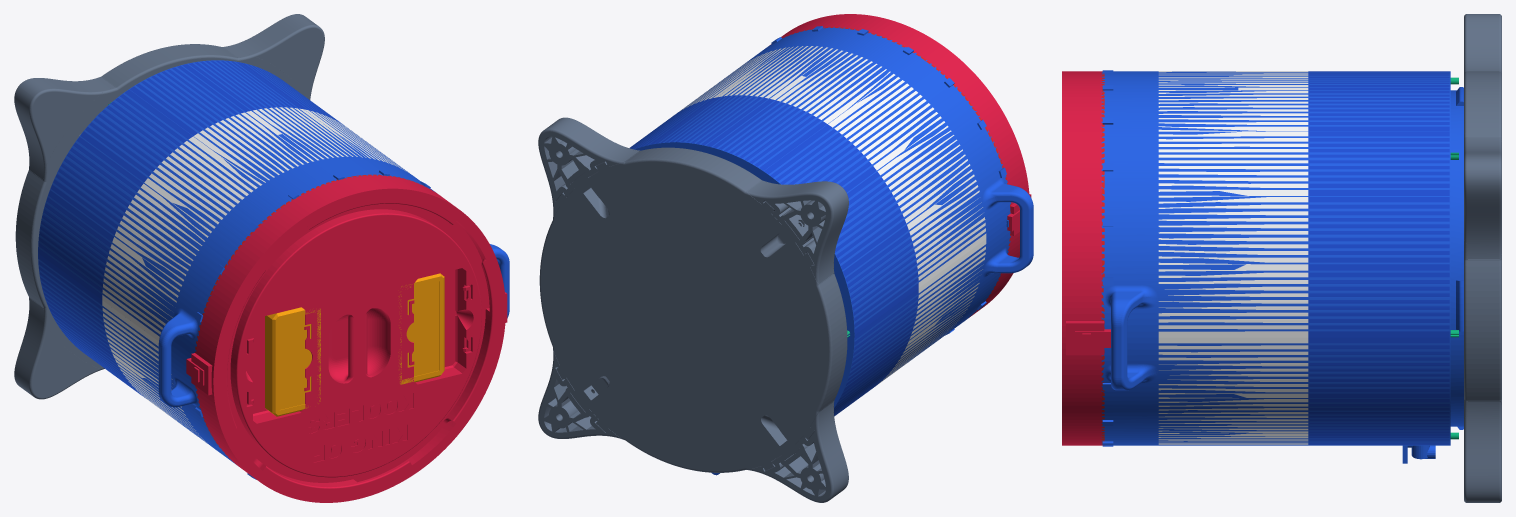
Rendered from KingOfKoolers_V12_24in_Tall_24od.obj.
3 renders of one model, left to right at view 1: azimuth 30°, elevation 25°; view 2: azimuth 150°, elevation 25°; view 3: azimuth 270°, elevation 25°, orthographic. The views are drawn at different scales.
Parts seen in each view (by area): view 1: v12_crown_lid_V12_Embossed_Crown_Lid_+_Deadbolt_Sliders, v12_one_piece_24in_V12_24in_Tall_24in_OD_One-Piece_Body, v12_wagon_base_Concentric_Dovetail_Wagon_Base_+_4x_Wheel_Feet, v12_sec2_lower_24in_Sec_2_-_Lower_Body_&_Spigot_(24in_Version), v12_sec3_mid_24in_Sec_3_-_Mid_Body_Extension_(24in_Version), v12_solar_batteries_Dual_10W_USB_Solar_Battery_Enclosures, v12_sec4_handles_Sec_4_-_Molded_Side_Loop_Handle_Ring; view 2: v12_wagon_base_Concentric_Dovetail_Wagon_Base_+_4x_Wheel_Feet, v12_one_piece_24in_V12_24in_Tall_24in_OD_One-Piece_Body, v12_sec2_lower_24in_Sec_2_-_Lower_Body_&_Spigot_(24in_Version), v12_sec3_mid_24in_Sec_3_-_Mid_Body_Extension_(24in_Version), v12_crown_lid_V12_Embossed_Crown_Lid_+_Deadbolt_Sliders, v12_sec4_handles_Sec_4_-_Molded_Side_Loop_Handle_Ring; view 3: v12_one_piece_24in_V12_24in_Tall_24in_OD_One-Piece_Body, v12_sec2_lower_24in_Sec_2_-_Lower_Body_&_Spigot_(24in_Version), v12_sec3_mid_24in_Sec_3_-_Mid_Body_Extension_(24in_Version), v12_wagon_base_Concentric_Dovetail_Wagon_Base_+_4x_Wheel_Feet, v12_crown_lid_V12_Embossed_Crown_Lid_+_Deadbolt_Sliders, v12_sec4_handles_Sec_4_-_Molded_Side_Loop_Handle_Ring, v12_sec5_collar_Sec_5_-_20-Start_Helix_&_Keyway_Collar.
Part boxes in pixels (bbox=[...]): v12_crown_lid_V12_Embossed_Crown_Lid_+_Deadbolt_Sliders: bbox=[186, 175, 507, 502]; v12_one_piece_24in_V12_24in_Tall_24in_OD_One-Piece_Body: bbox=[38, 60, 509, 479]; v12_wagon_base_Concentric_Dovetail_Wagon_Base_+_4x_Wheel_Feet: bbox=[14, 14, 324, 399]; v12_sec2_lower_24in_Sec_2_-_Lower_Body_&_Spigot_(24in_Version): bbox=[38, 60, 341, 397]; v12_sec3_mid_24in_Sec_3_-_Mid_Body_Extension_(24in_Version): bbox=[102, 107, 410, 445]; v12_solar_batteries_Dual_10W_USB_Solar_Battery_Enclosures: bbox=[265, 273, 444, 416]; v12_sec4_handles_Sec_4_-_Molded_Side_Loop_Handle_Ring: bbox=[159, 156, 506, 463]; v12_wagon_base_Concentric_Dovetail_Wagon_Base_+_4x_Wheel_Feet: bbox=[538, 117, 848, 502]; v12_one_piece_24in_V12_24in_Tall_24in_OD_One-Piece_Body: bbox=[630, 26, 1033, 475]; v12_sec2_lower_24in_Sec_2_-_Lower_Body_&_Spigot_(24in_Version): bbox=[630, 95, 918, 415]; v12_sec3_mid_24in_Sec_3_-_Mid_Body_Extension_(24in_Version): bbox=[679, 46, 986, 384]; v12_crown_lid_V12_Embossed_Crown_Lid_+_Deadbolt_Sliders: bbox=[771, 14, 1031, 317]; v12_sec4_handles_Sec_4_-_Molded_Side_Loop_Handle_Ring: bbox=[748, 28, 1033, 335]; v12_one_piece_24in_V12_24in_Tall_24in_OD_One-Piece_Body: bbox=[1101, 70, 1463, 463]; v12_sec2_lower_24in_Sec_2_-_Lower_Body_&_Spigot_(24in_Version): bbox=[1308, 71, 1449, 444]; v12_sec3_mid_24in_Sec_3_-_Mid_Body_Extension_(24in_Version): bbox=[1158, 71, 1308, 444]; v12_wagon_base_Concentric_Dovetail_Wagon_Base_+_4x_Wheel_Feet: bbox=[1464, 14, 1501, 502]; v12_crown_lid_V12_Embossed_Crown_Lid_+_Deadbolt_Sliders: bbox=[1062, 71, 1110, 445]; v12_sec4_handles_Sec_4_-_Molded_Side_Loop_Handle_Ring: bbox=[1104, 71, 1158, 445]; v12_sec5_collar_Sec_5_-_20-Start_Helix_&_Keyway_Collar: bbox=[1101, 71, 1104, 445].
Size of the model in its own units: 725 by 673 by 717.
